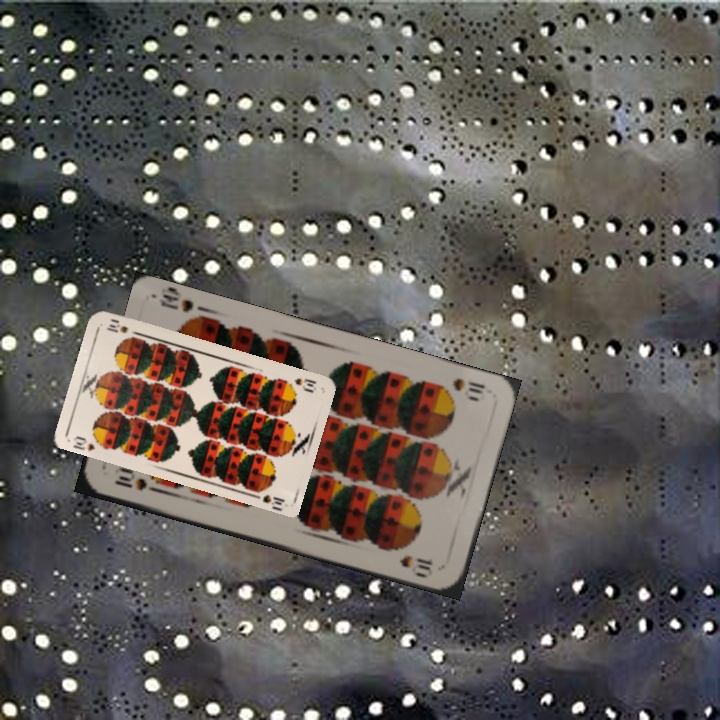S10: (110, 466, 162, 496), (448, 374, 488, 397), (69, 432, 107, 454), (290, 374, 319, 394)
